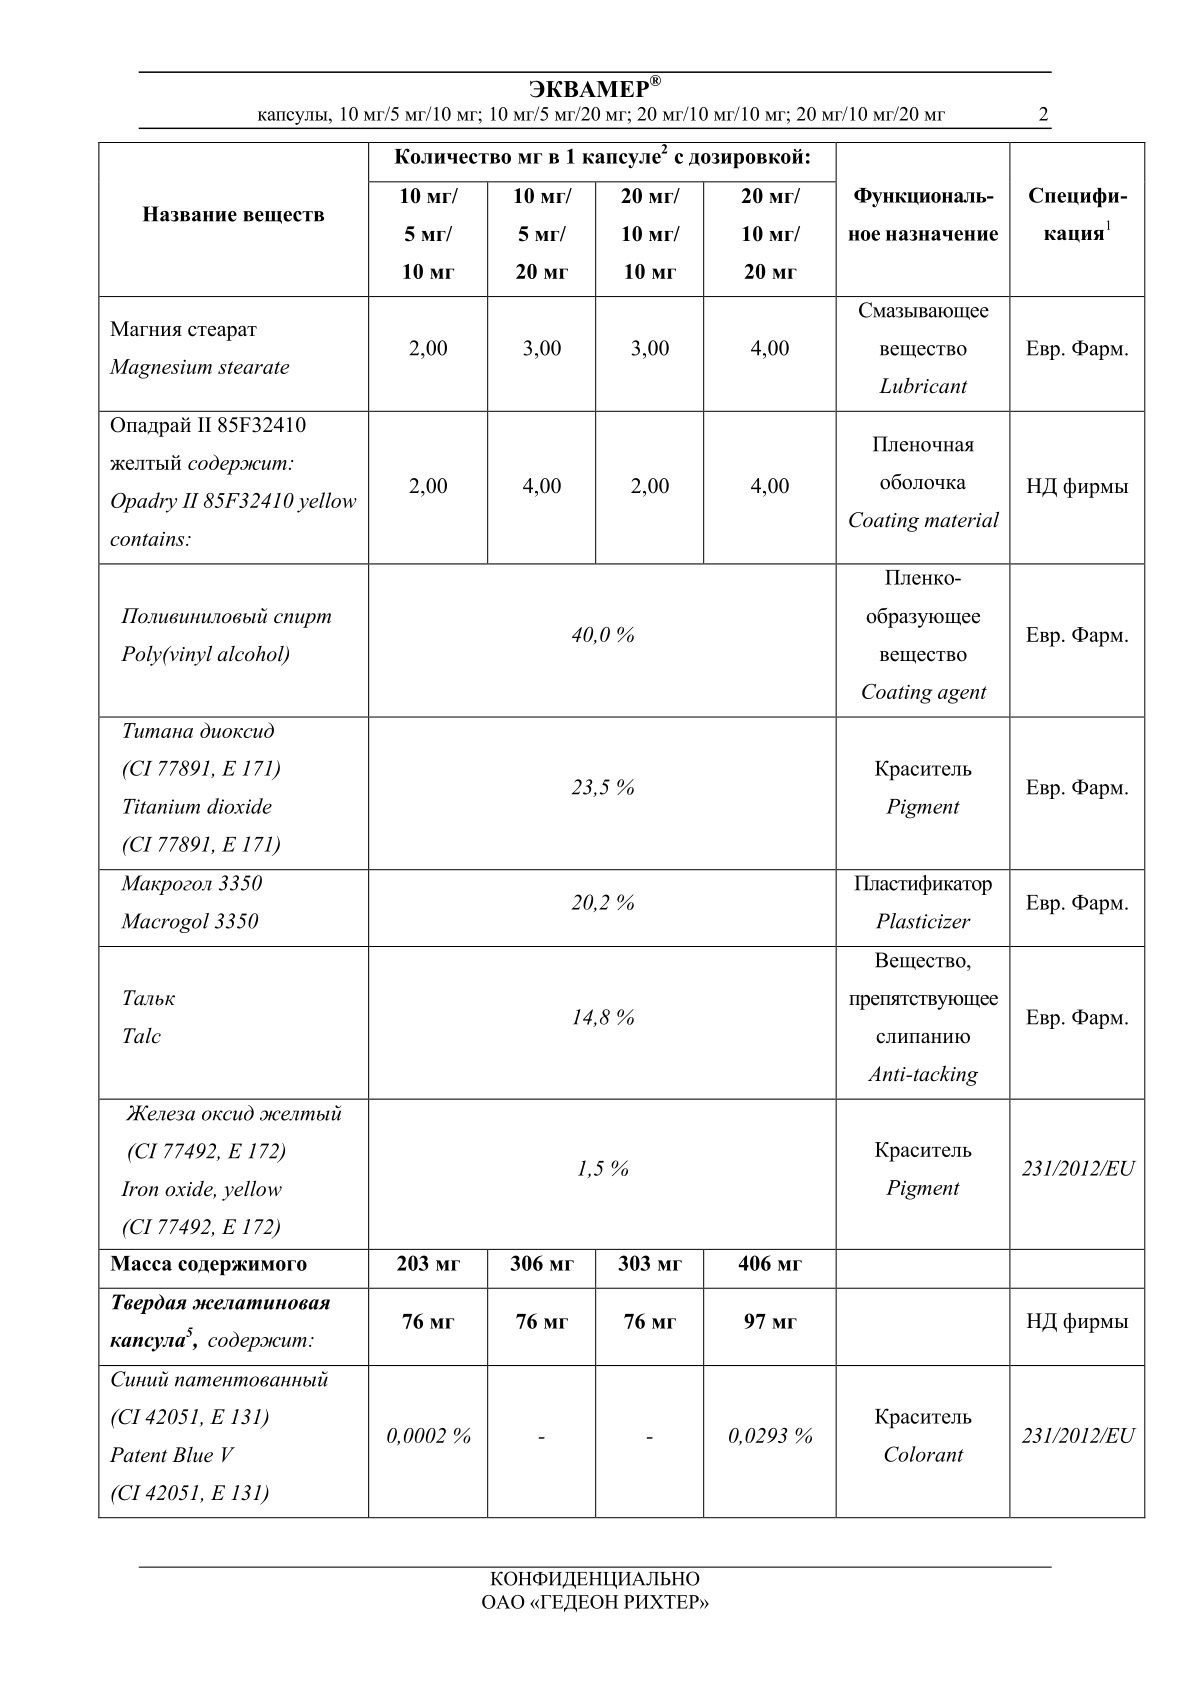merged_cells: (95, 140, 1147, 1520)
